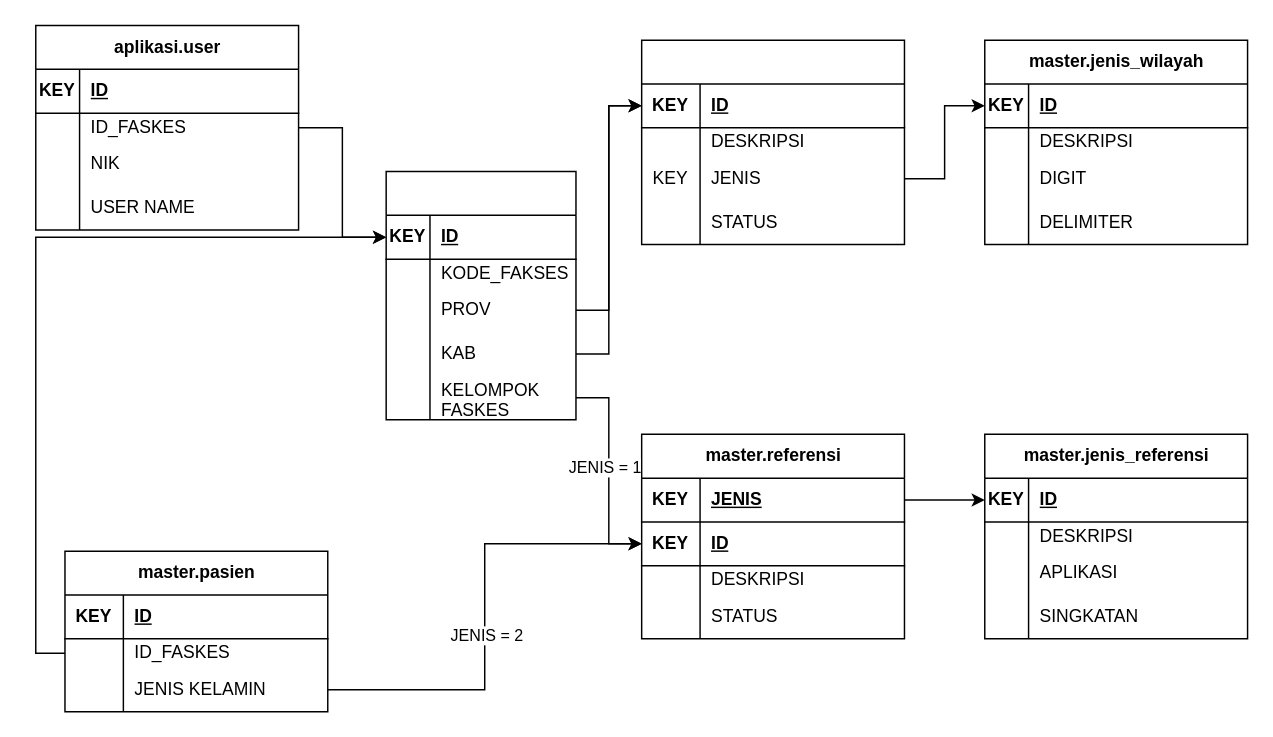
The diagram is 1273 pixels wide and 737 high, and some of its shapes have lost their labels. Each missing label, with the box of its shape:
master.faskes: (385, 170, 576, 420)
master.wilayah: (640, 39, 904, 245)
